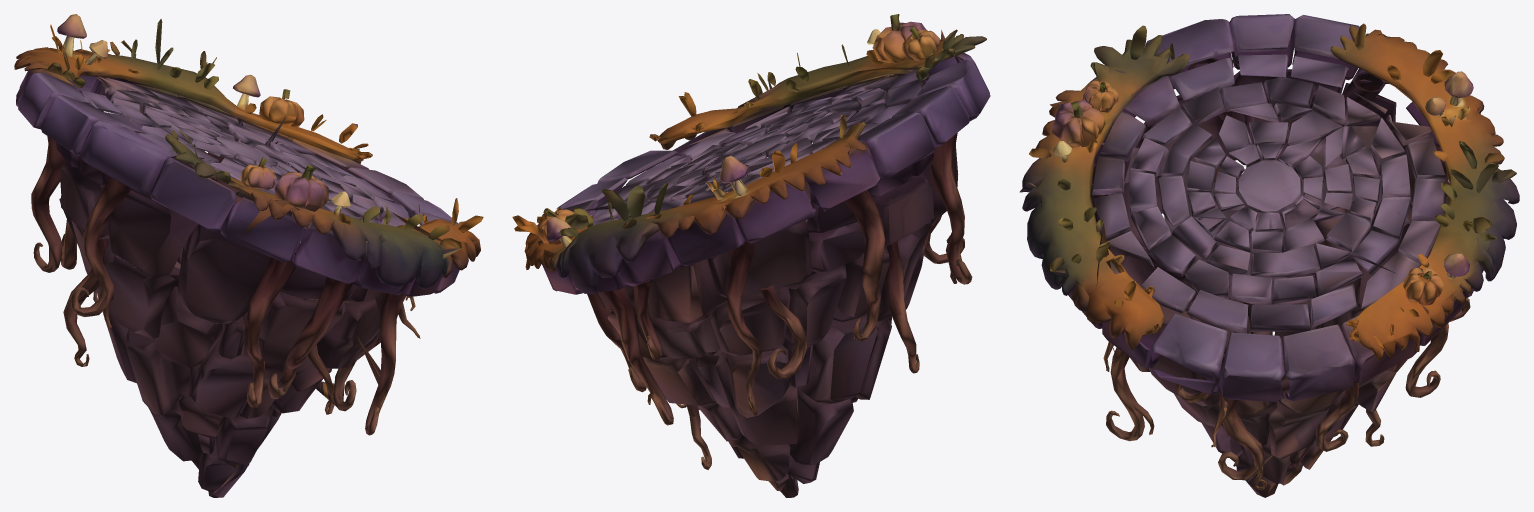
The model's file is L7_FloatIsland_LOD1.fbx.
3 views of the same model, side by side, from view 1: azimuth 30°, elevation 25°; view 2: azimuth 150°, elevation 25°; view 3: azimuth 270°, elevation 25° (orthographic). The views are drawn at different scales.
Visible parts, largest first — view 1: L7_FloatIsland_LOD1; view 2: L7_FloatIsland_LOD1; view 3: L7_FloatIsland_LOD1.
Part boxes in pixels (x1,y1,x2,y2): L7_FloatIsland_LOD1: (14,14,483,497); L7_FloatIsland_LOD1: (512,14,990,497); L7_FloatIsland_LOD1: (1019,14,1519,497).
Size of the model in its own units: 5.6 by 6 by 6.43.
Materials: 1 (1 with a texture image).
